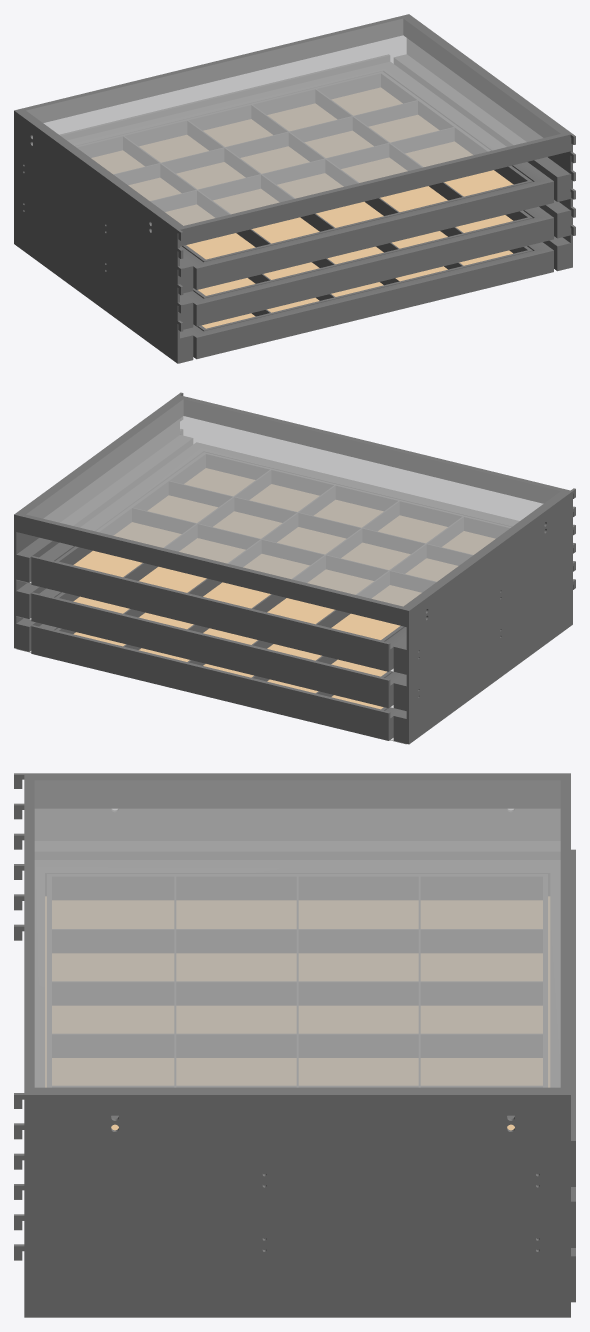
3 renders of one model, top to bottom at view 1: azimuth 30°, elevation 25°; view 2: azimuth 150°, elevation 25°; view 3: azimuth 270°, elevation 25°, orthographic. The views are drawn at different scales.
Parts seen in each view (by area): view 1: Geom3D (×7); view 2: Geom3D (×7); view 3: Geom3D (×3).
Boxes of the visible parts, left/top/right/bottom form: Geom3D (×7): left=14, top=14, right=575, bottom=363; Geom3D (×7): left=14, top=392, right=575, bottom=744; Geom3D (×3): left=14, top=773, right=575, bottom=1317.
Size of the model in its own units: 0.7382 by 0.2394 by 0.545.
